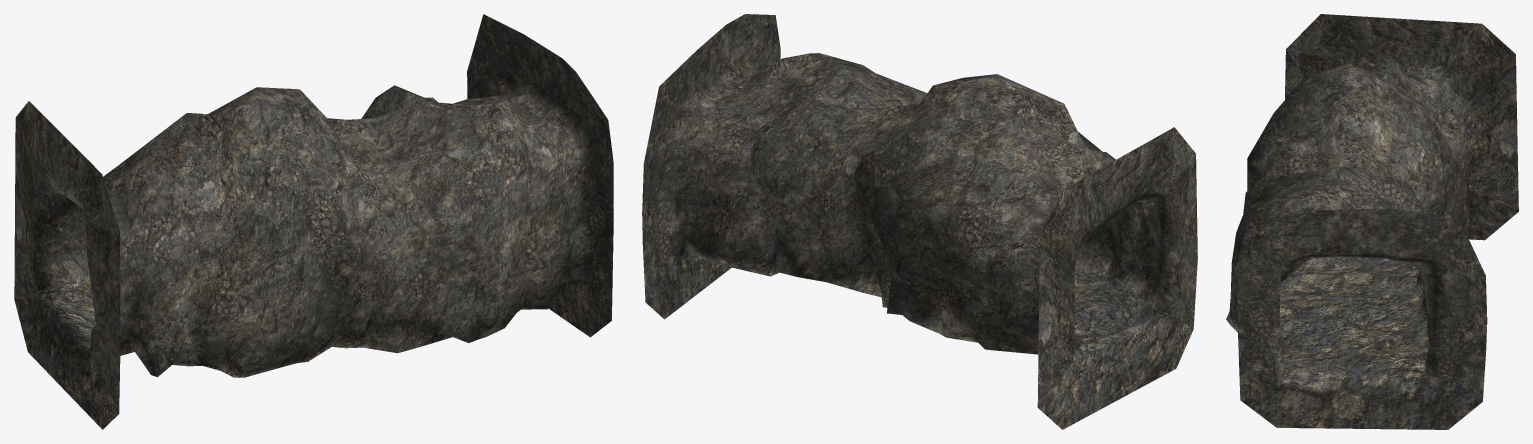
Rendered from Cave35.fbx.
3 renders of one model, left to right at view 1: azimuth 30°, elevation 25°; view 2: azimuth 150°, elevation 25°; view 3: azimuth 270°, elevation 25°, orthographic. The views are drawn at different scales.
Visible parts, largest first — view 1: Cave35; view 2: Cave35; view 3: Cave35.
Boxes of the visible parts, box(x1,y1,x2,y2) form: Cave35: box(14, 14, 613, 429); Cave35: box(642, 14, 1197, 429); Cave35: box(1226, 14, 1518, 429).
Size of the model in its own units: 113 by 63.53 by 69.91.
